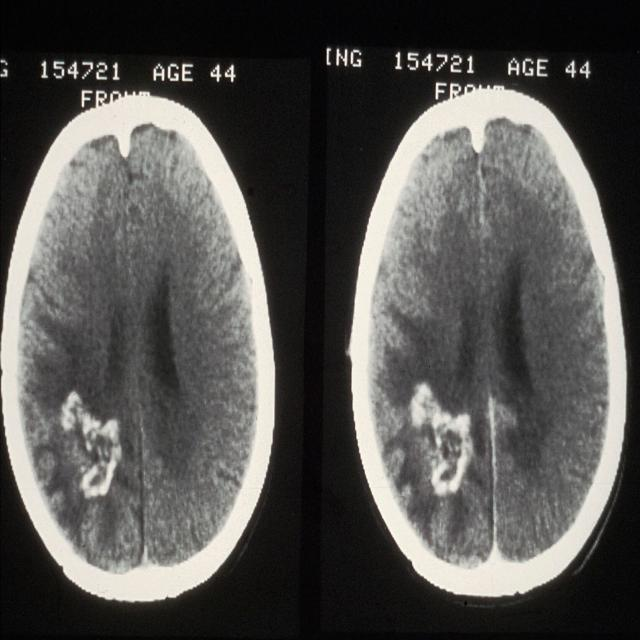Tumor: (413, 376, 473, 496), (61, 391, 124, 497)
